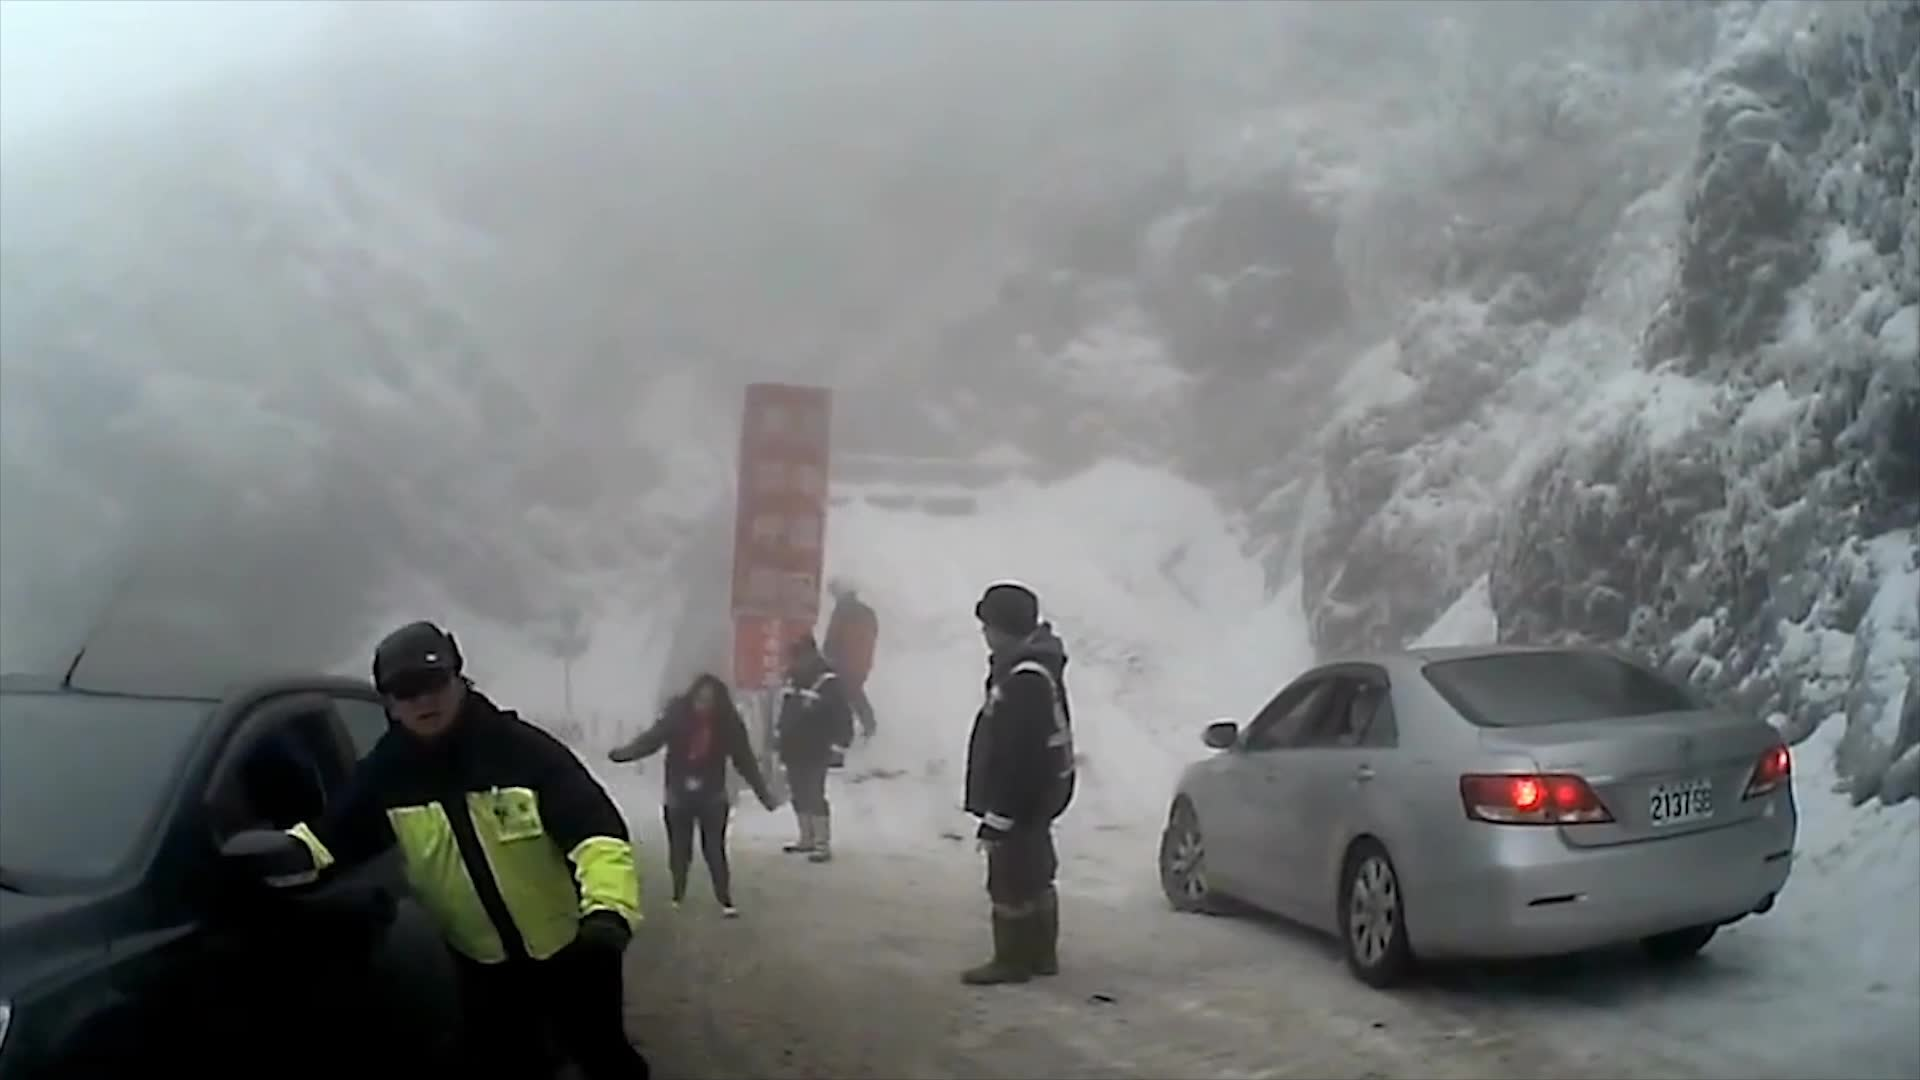pedestrian: (248, 620, 652, 1080), (951, 585, 1082, 984), (609, 671, 772, 919), (392, 644, 512, 925), (777, 641, 856, 864), (824, 574, 884, 743)
vehicle: (0, 662, 539, 1079), (1158, 638, 1799, 986)
